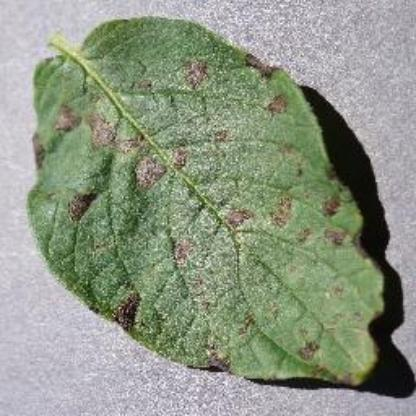Early-Blight: (23, 15, 395, 392)
